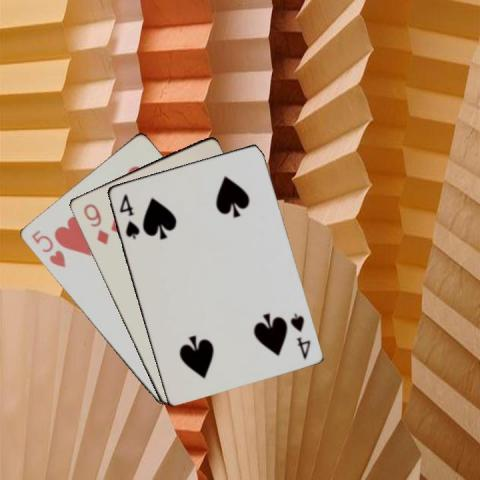4s: (116, 191, 141, 241), (287, 310, 311, 360)
5h: (28, 226, 67, 269)
9d: (80, 200, 110, 247)
